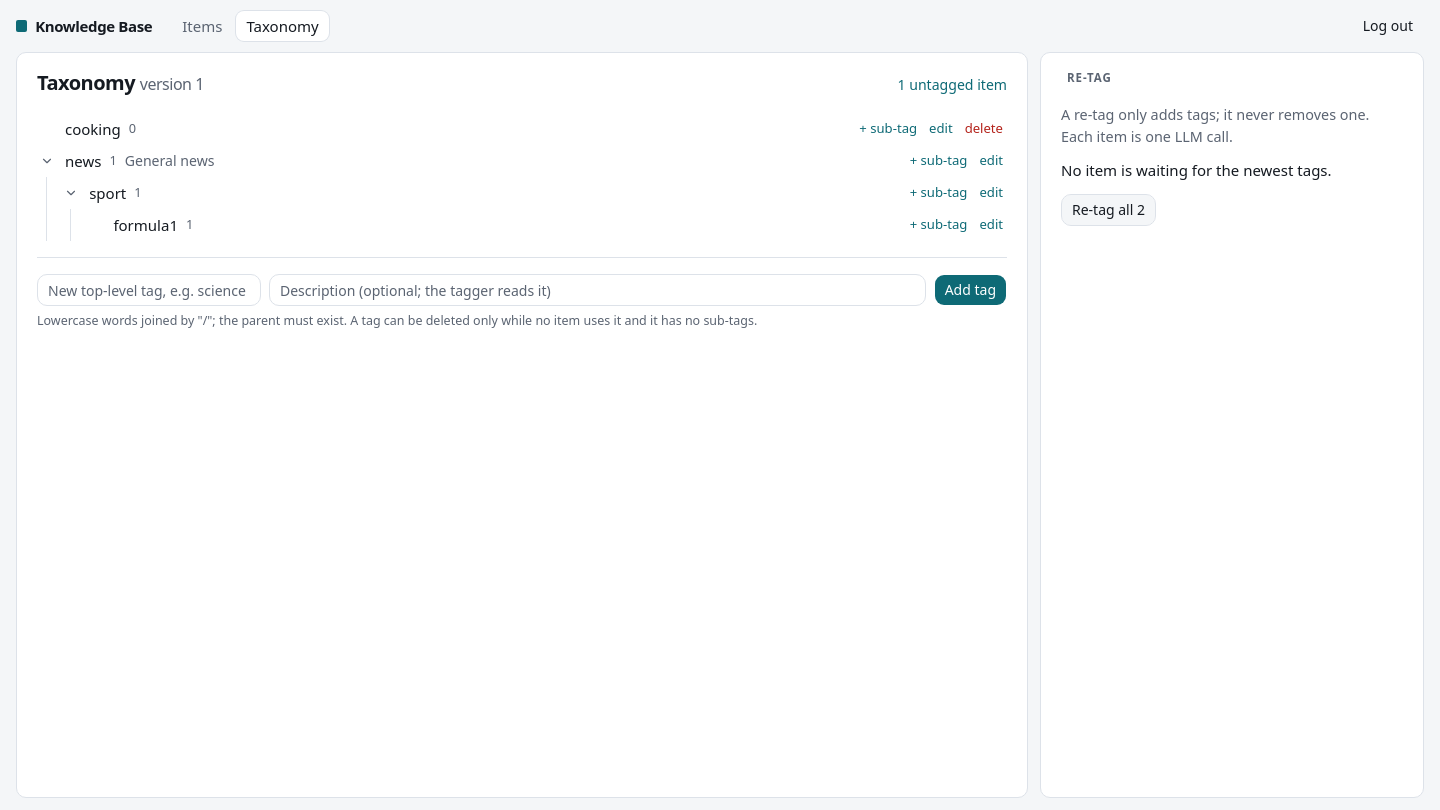
Test: edit a description, and rename a Tag with its sub-tags everywhere
expect the heading "Taxonomy version 1" is shown: met, box 37,69 -> 204,97
expect the link "formula1" is shown: met, box 113,214 -> 178,236
Click the button with aria-label "Edit cooking". click: (941, 129)
box: 929,119 -> 953,139
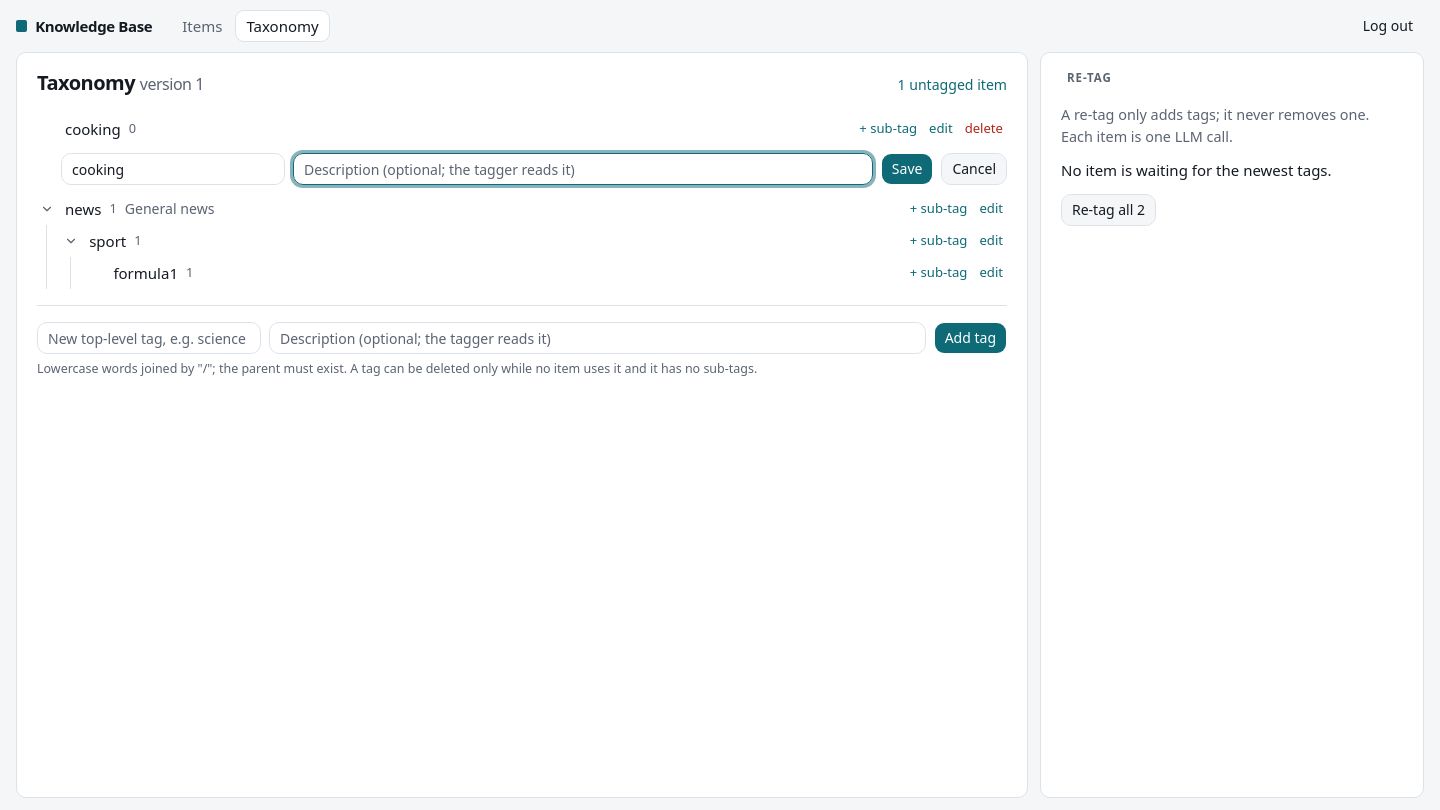
Type "Recipes" into the field labelled "Description" below "cooking". click: (583, 169)
box: 293,153 -> 873,185
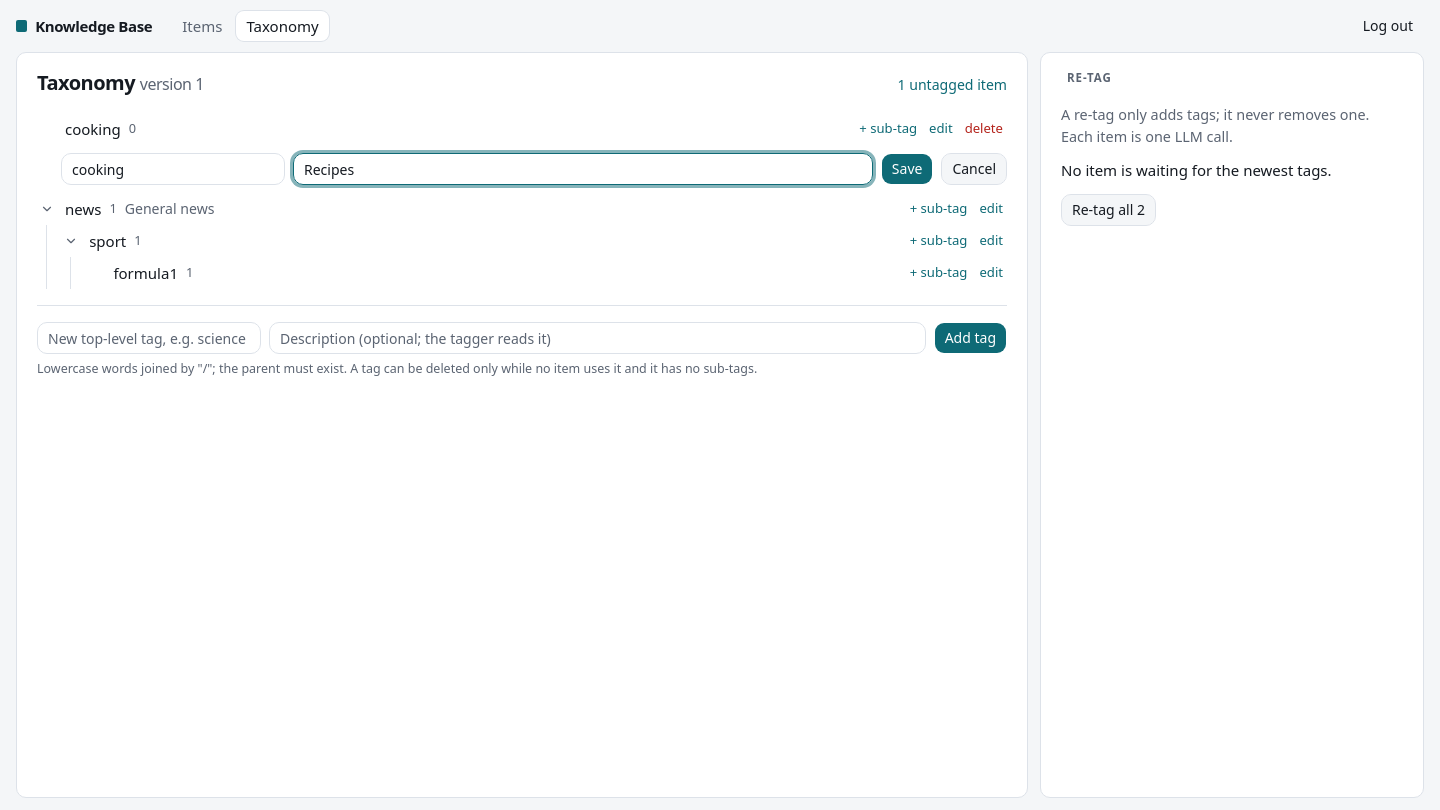
Click the button "Save". click: (907, 169)
box: 881,153 -> 933,185
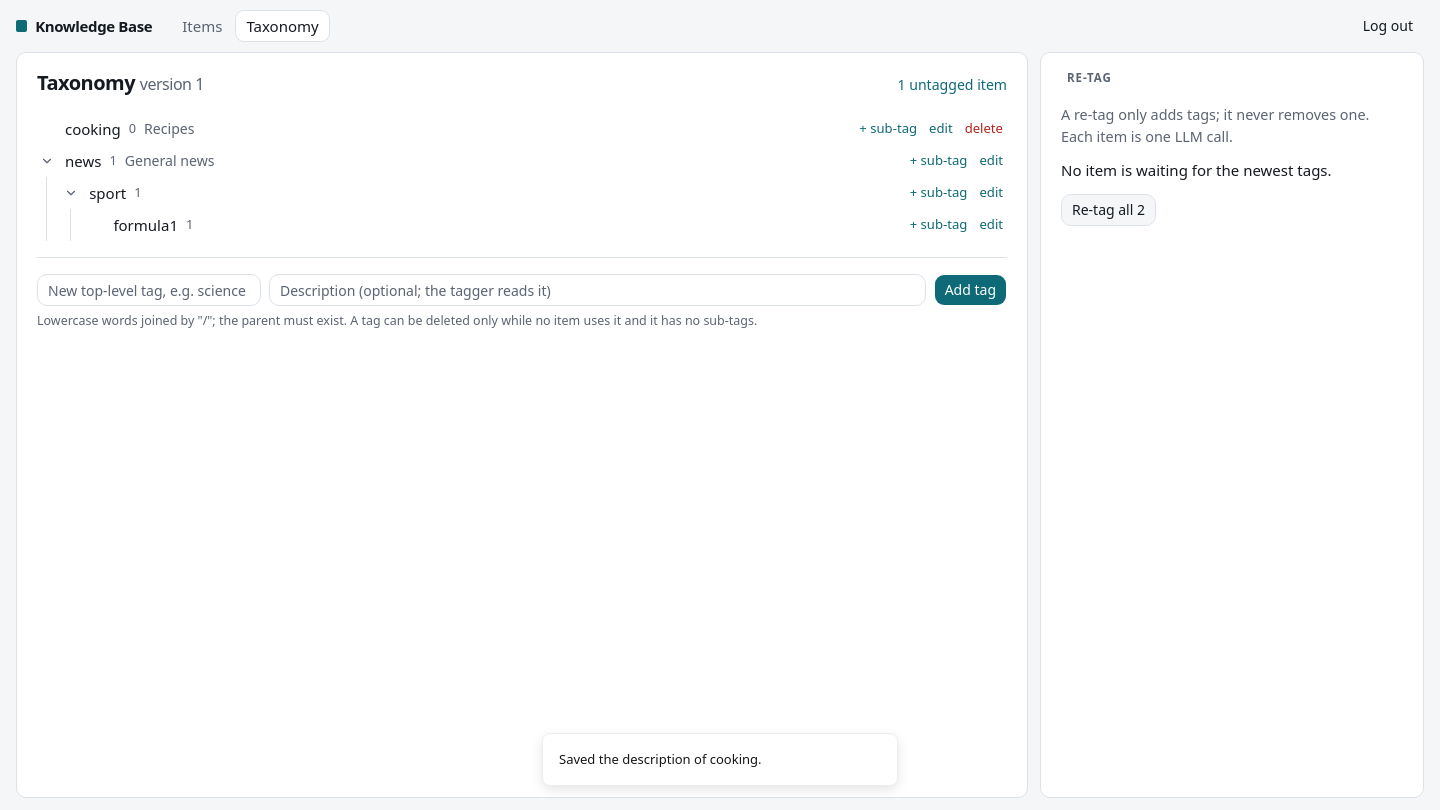
expect the text "Recipes" is shown: met, box 144,119 -> 194,138
Click the button with aria-label "Edit news/sport". click: (991, 193)
box: 979,183 -> 1003,203
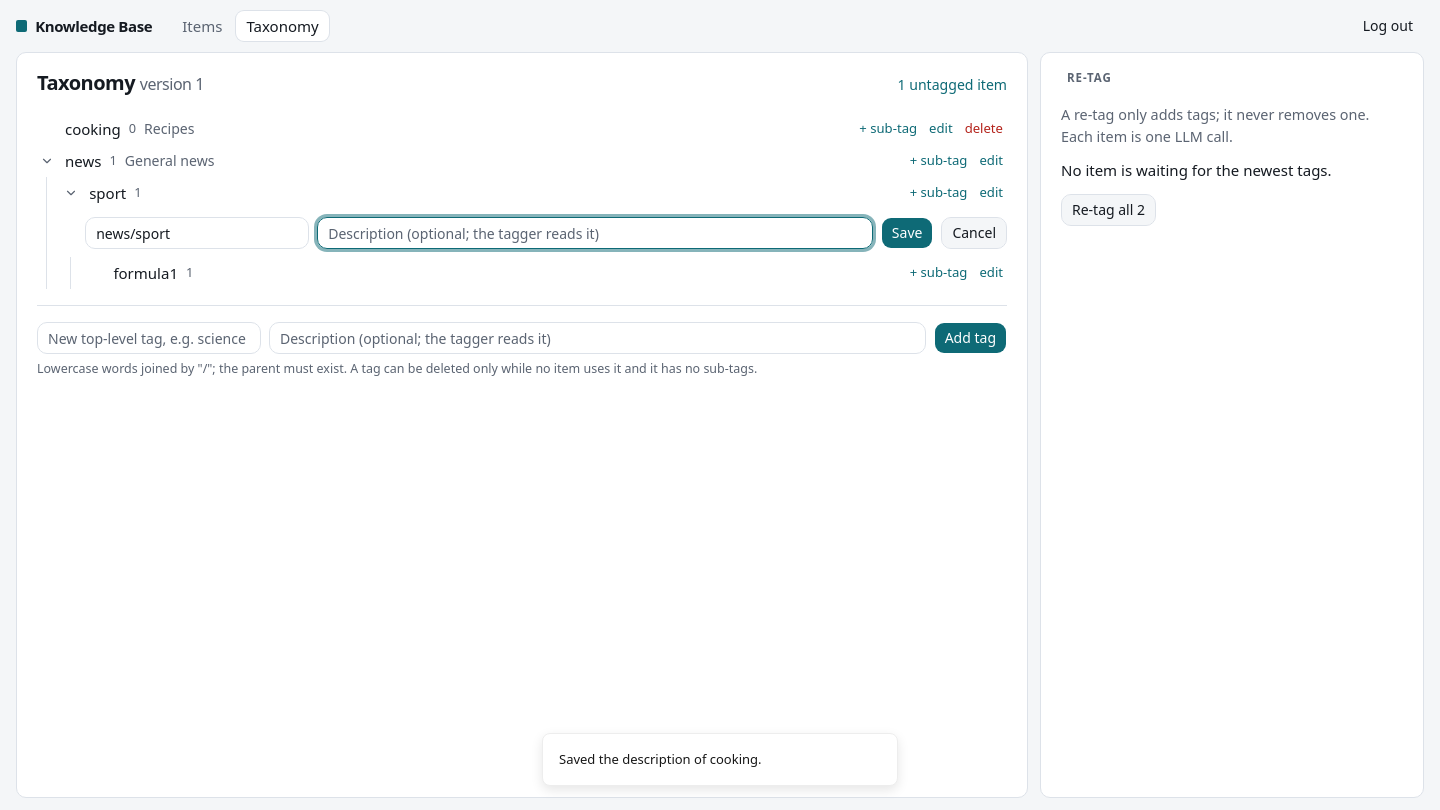
Replace the text in the field named "Path" with "news/sports". click: (197, 233)
box: 85,217 -> 309,249
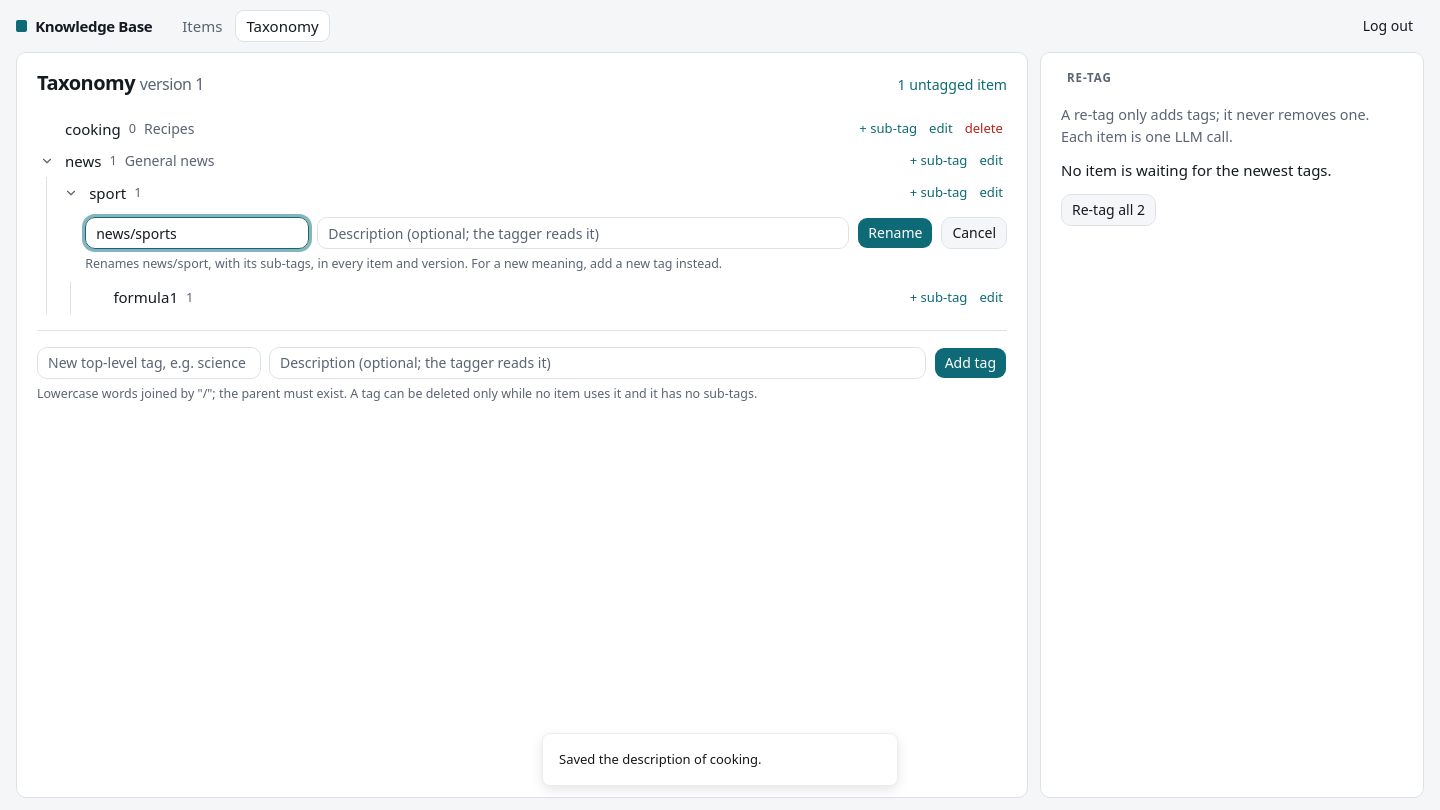
expect the text "Renames news/sport, with its sub-tags, in every item and version" is shown: met, box 85,255 -> 722,272
Click the button "Rename". click: (895, 233)
box: 857,217 -> 933,249
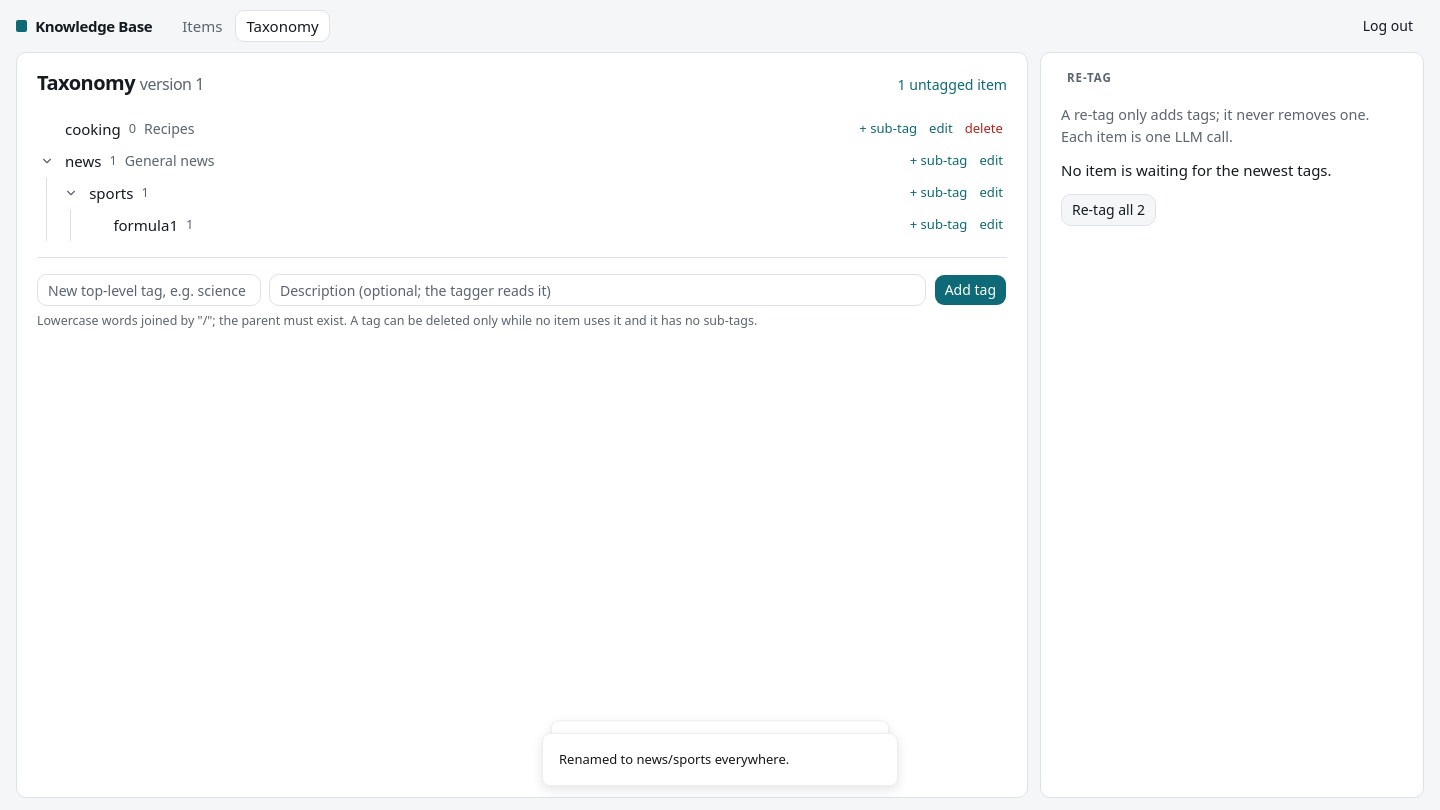
expect the link "sports" is shown: met, box 89,182 -> 134,204
